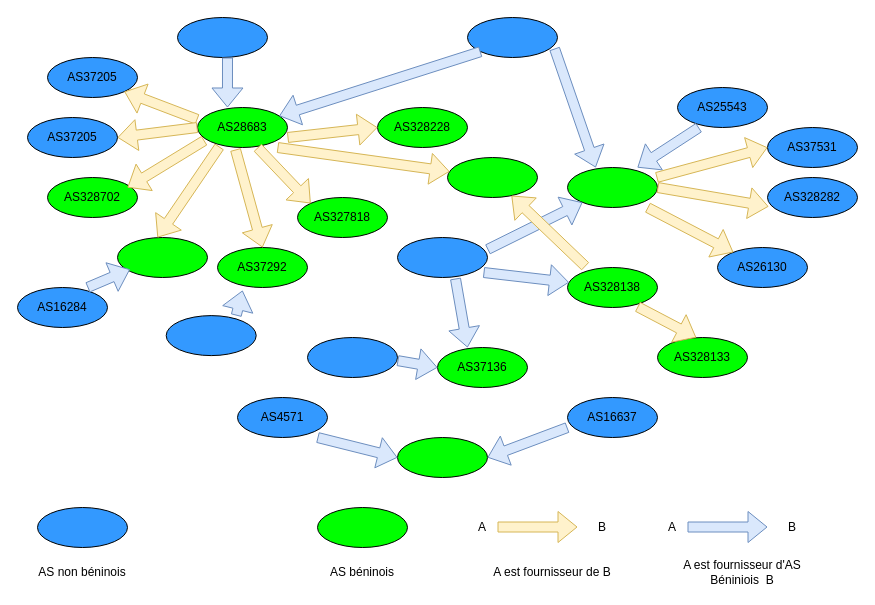
Some shapes in this 875 by 605 pixel diagram are drawn without their labels. The shapes that lost their labels are listed below. From the top down, each one's centre as x and y in pixels, then its label:
(x=222, y=37): AS8346
(x=512, y=37): AS5511
(x=492, y=177): AS328098
(x=612, y=187): AS37090
(x=162, y=257): AS328092
(x=442, y=257): AS174
(x=210, y=335): AS60171
(x=352, y=357): AS6713
(x=442, y=457): AS37424
